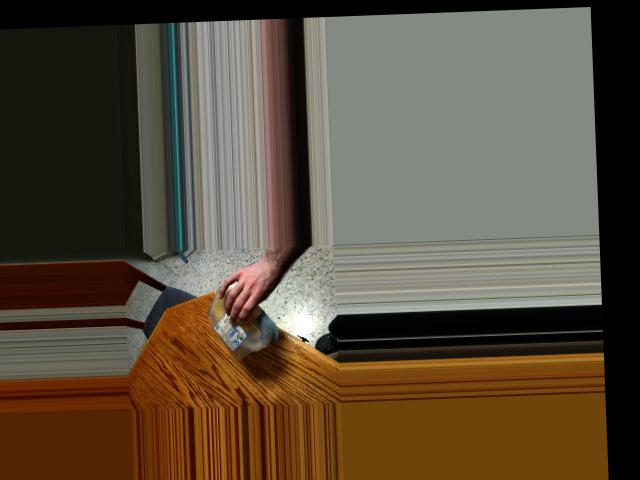cheese: (201, 276, 270, 363)
